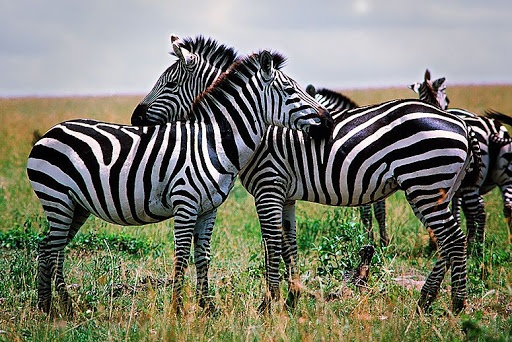zebra: (129, 31, 484, 316), (24, 48, 335, 323)
